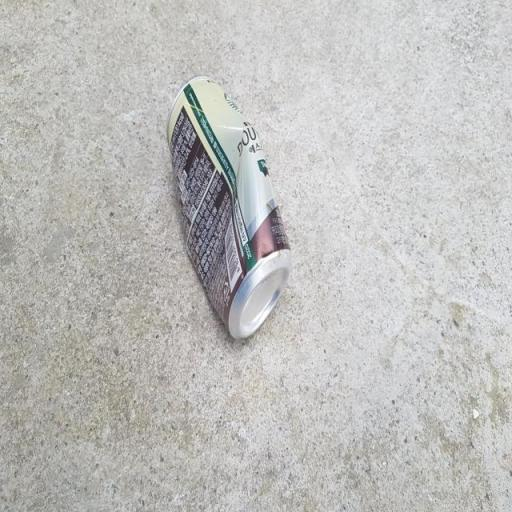metal: (160, 60, 294, 360)
